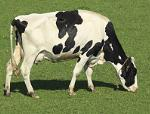cow: (4, 10, 138, 97)
